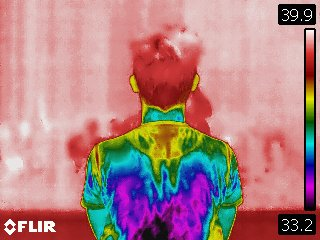human: (79, 24, 247, 240)
